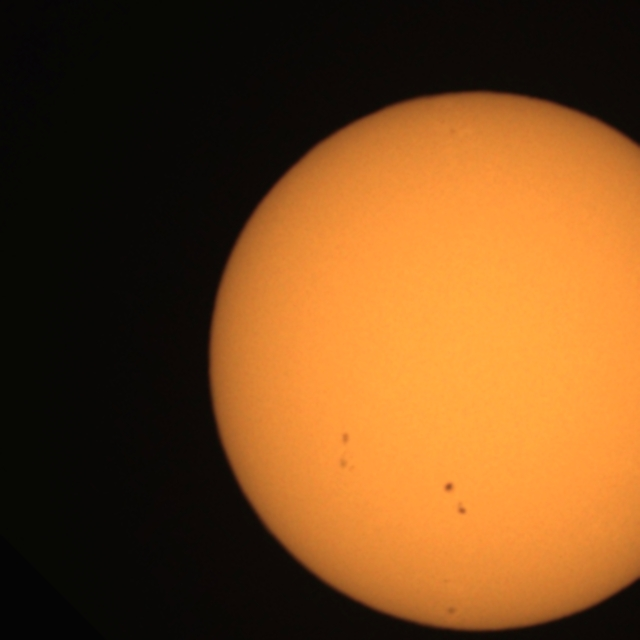sunspot: (442, 478, 469, 518), (336, 430, 358, 477), (336, 455, 357, 474), (441, 480, 457, 496), (339, 430, 352, 448), (455, 502, 469, 518), (445, 604, 459, 618)
